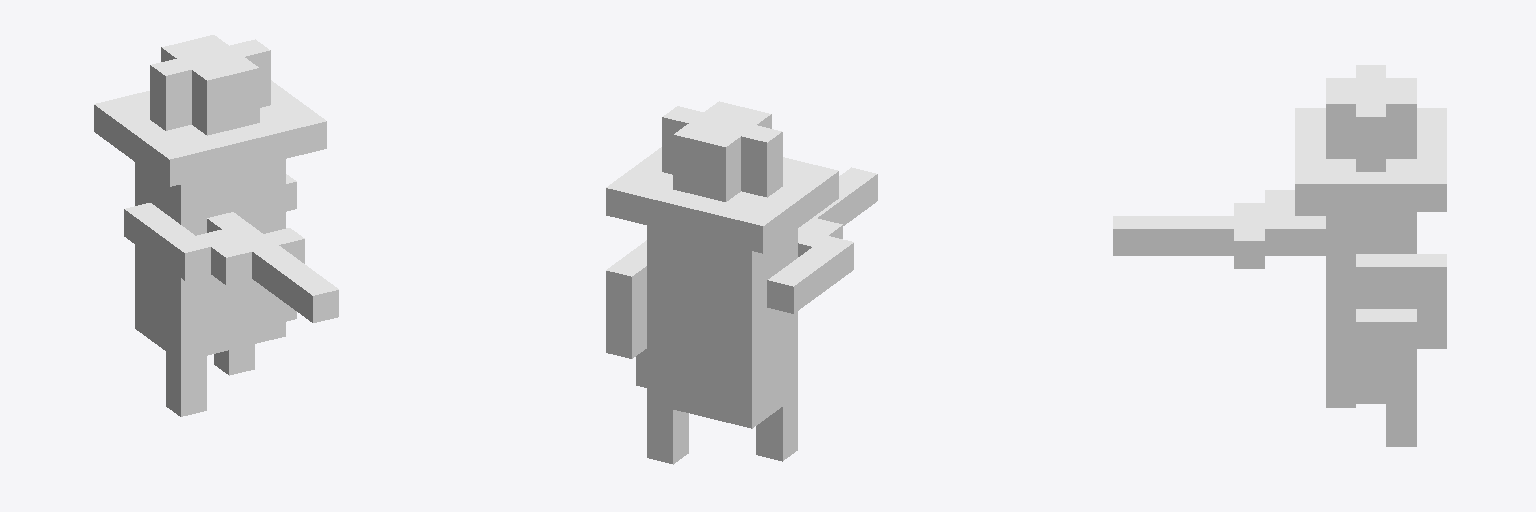
Rendered from dash.obj.
3 views of the same model, side by side, from view 1: azimuth 30°, elevation 25°; view 2: azimuth 150°, elevation 25°; view 3: azimuth 270°, elevation 25° (orthographic).
Bounding box in the file's own units: 6 × 12 × 11.